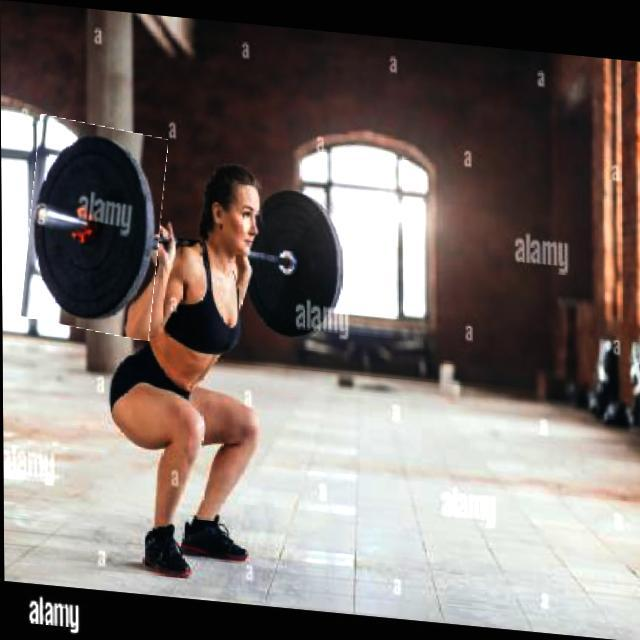barbell: (26, 116, 165, 337)
